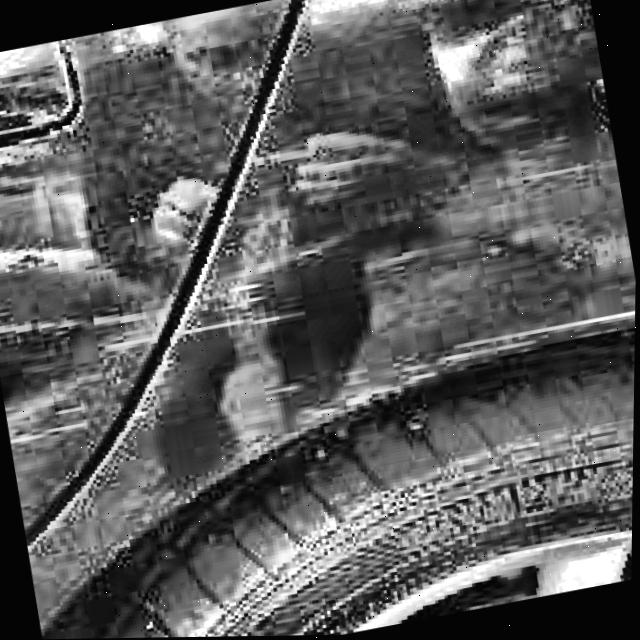door_scratch: (23, 249, 337, 378)
